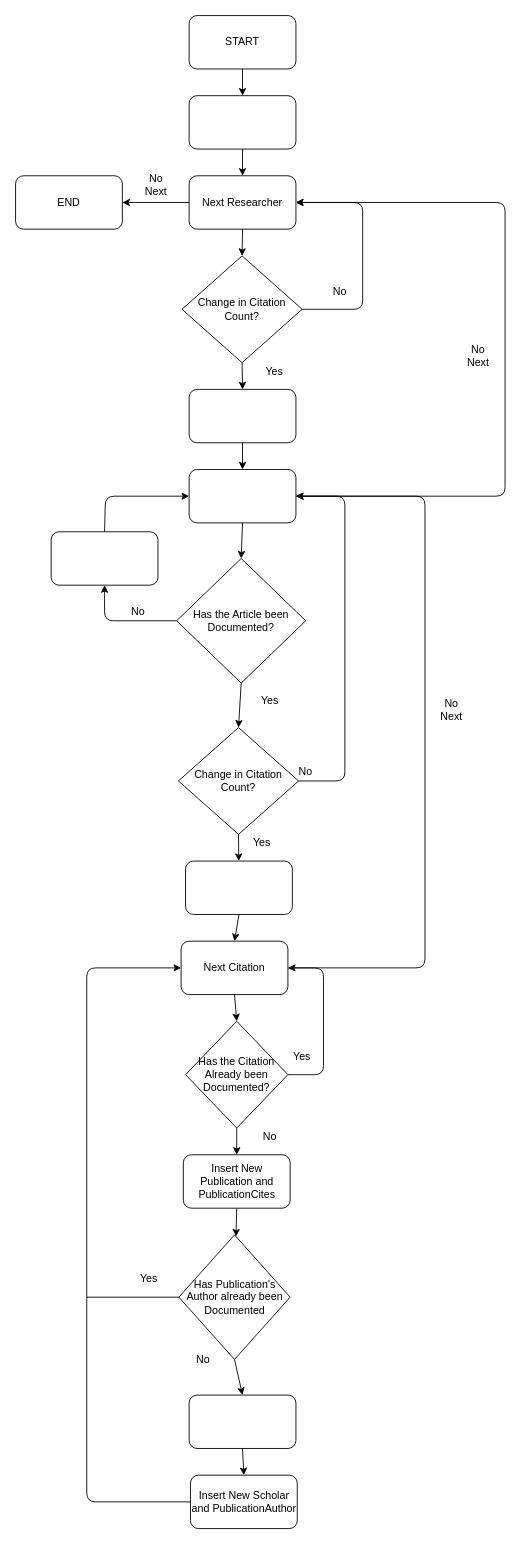
This 528x1544 diagram has some shape labels left out. The shapes that lost their labels are listed below. From the top down, each one's centre as x and y in pixels, then its label:
At (242,122): "Query Authors to Parse".
At (242,415): "Scrape All Articles for the Author".
At (242,496): "Next Article".
At (104,558): "Insert New Publication and PublicationAuthor".
At (238,887): "Scrape All Citations for the Article".
At (242,1421): "Scrape Citation's Author".
